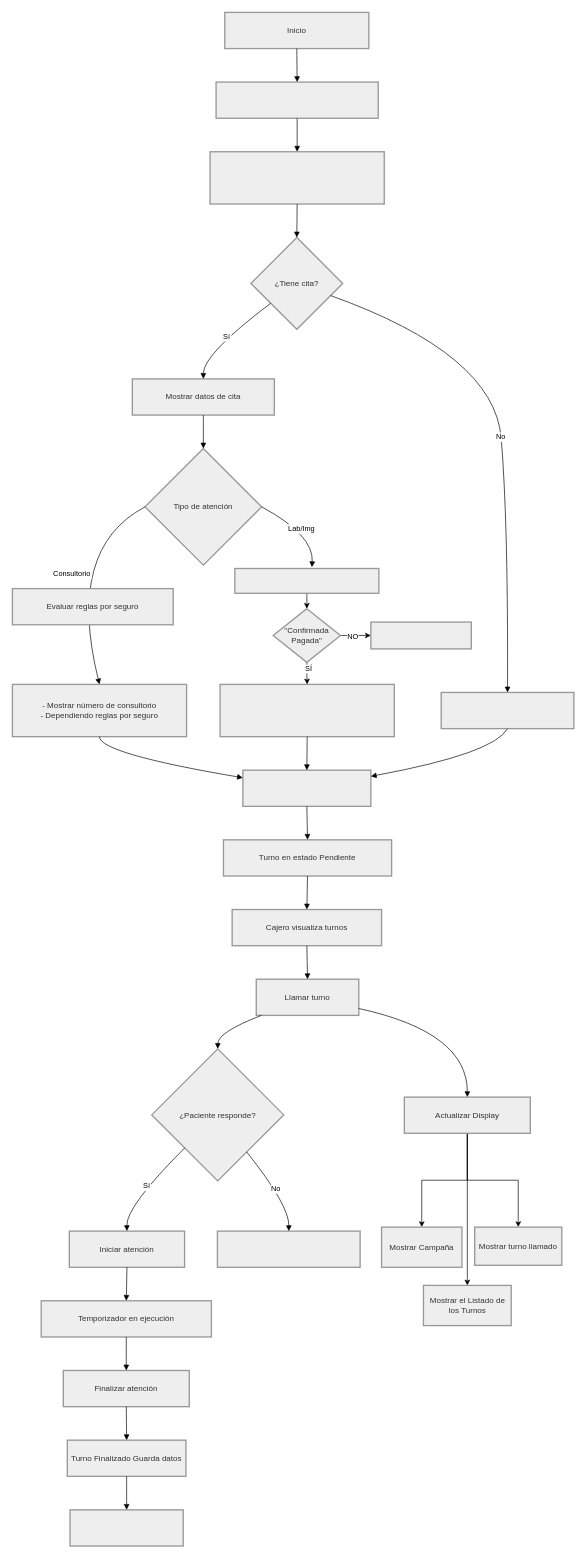
Image size: 586x1558. Some labels were removed from this diagram. Each missing label, with the centre of its shape:
Consultar datos en Zoho CRM: the point at 297,177
Fin del proceso: the point at 126,1527
Fin proceso kiosko: the point at 306,788
Finaliza la Atención: the point at 288,1249
Generar turno Host: the point at 507,710
Generar turno: Caja: the point at 421,635
Generar turno: Lab / Imagen: the point at 307,710
Ingresar cédula en Kiosko: the point at 297,100
Obtener valor campo "Especialidad": the point at 306,580
